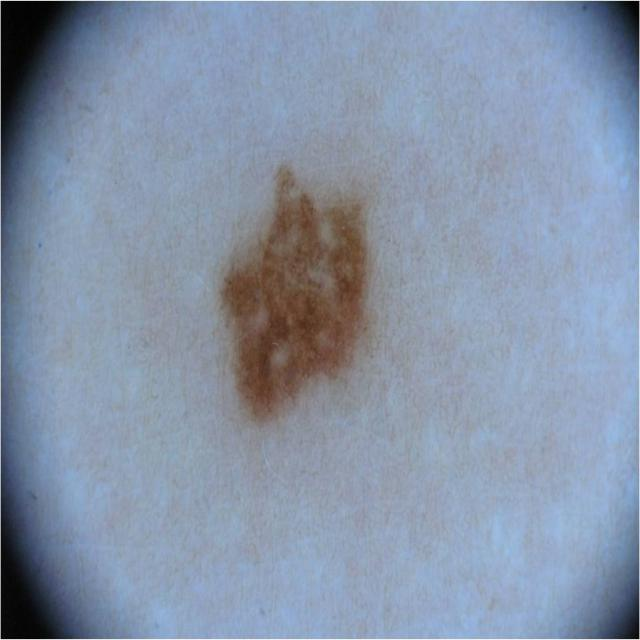Benign: (216, 153, 382, 463)
